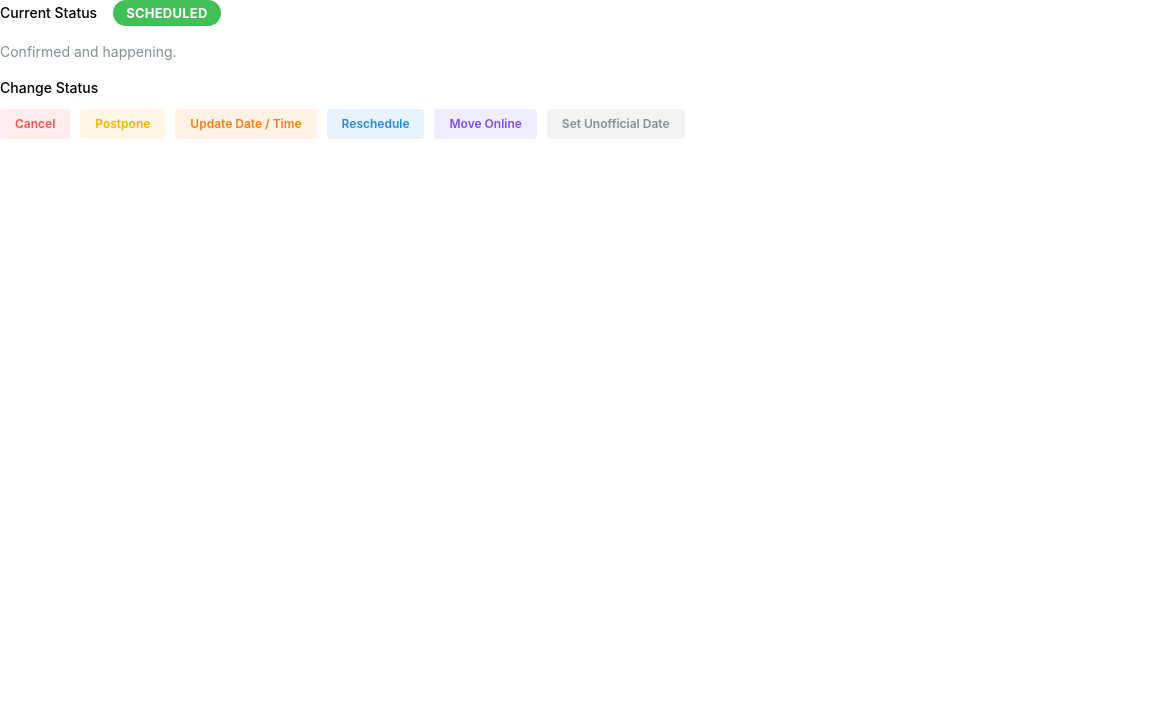
Test: EventStatusSection › clicking "Reschedule" opens the RescheduleModal
Click the button "Reschedule" at (376, 124), box [327, 109, 424, 139]
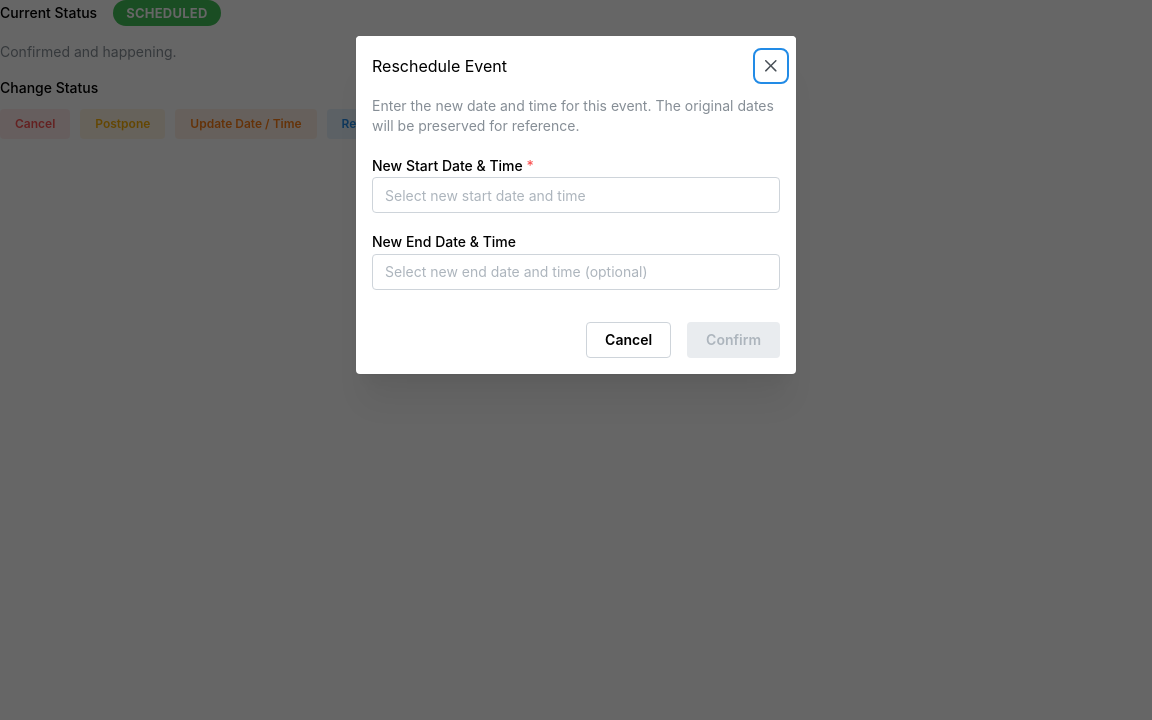
Expected: the text "New Start Date & Time" is shown, [372, 157, 523, 174]
